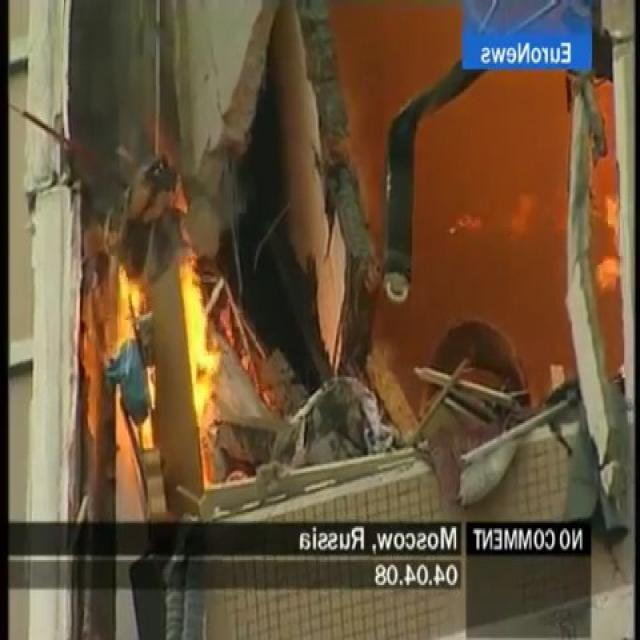fire: (106, 215, 222, 462)
